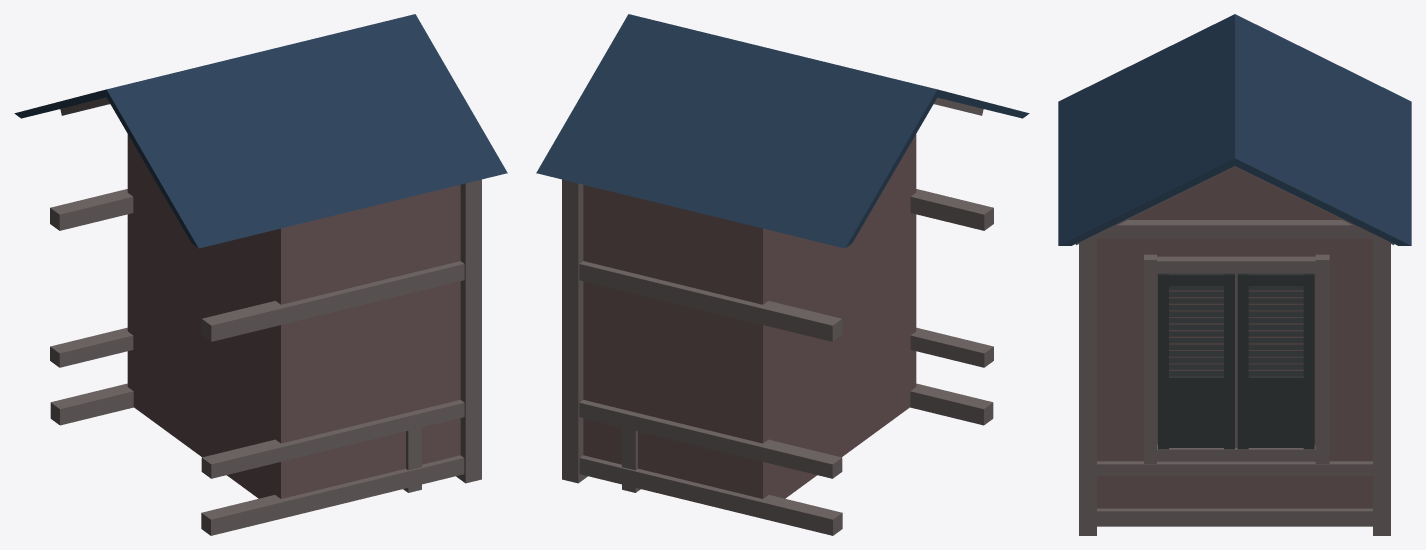
File: SM_skvorechnick_01.fbx
3 renders of one model, left to right at view 1: azimuth 30°, elevation 25°; view 2: azimuth 150°, elevation 25°; view 3: azimuth 270°, elevation 25°, orthographic. The views are drawn at different scales.
Parts seen in each view (by area): view 1: Box012.007, Cube.068, Cube.011, Cube.008, Cube.012, Cube.010, Cube.013; view 2: Box012.007, Cube.068, Cube.011, Cube.008, Cube.012, Cube.010, Cube.013; view 3: Cube.068, Box012.007, Cube.010, Cube.007, Cube.009, Cube.033, Cube.026, Cube.040, Cube.016, Cube.018, Cube.032, Cube.020 (+14 smaller).
Part boxes in pixels (x1,y1,x2,y2): Box012.007: (127,134,460,498); Cube.068: (14,14,507,248); Cube.011: (50,189,464,341); Cube.008: (50,383,464,535); Cube.012: (50,327,464,478); Cube.010: (456,179,481,483); Cube.013: (403,427,421,492); Box012.007: (583,134,916,498); Cube.068: (536,14,1029,248); Cube.011: (579,189,993,341); Cube.008: (579,383,993,535); Cube.012: (579,327,993,478); Cube.010: (562,179,587,483); Cube.013: (622,427,640,492); Cube.068: (1058,14,1411,245); Box012.007: (1097,167,1372,508); Cube.010: (1079,238,1390,535); Cube.007: (1097,508,1372,526); Cube.009: (1090,220,1379,238); Cube.033: (1248,286,1303,376); Cube.026: (1169,286,1223,376); Cube.040: (1097,461,1372,475); Cube.016: (1315,254,1329,463); Cube.018: (1157,256,1315,273); Cube.032: (1248,388,1303,437); Cube.020: (1169,388,1223,437).
Size of the model in its own units: 318 by 396 by 329.
